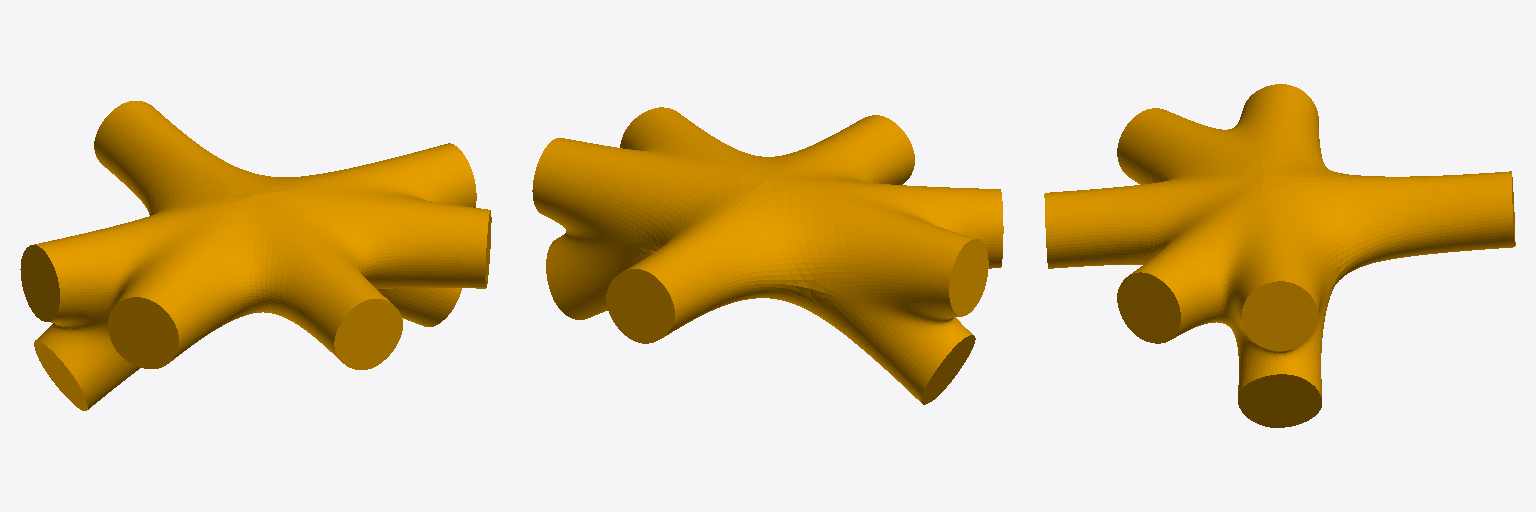
robot.urdf — object:
<robot name="object">
  <link name="object">
    <visual>
      <origin xyz="0 0 0"/>
      <geometry>
        <mesh filename="visual.obj" scale="1 1 1"/>
      </geometry>
    </visual>
    <collision>
      <origin xyz="0 0 0"/>
      <geometry>
        <mesh filename="visual.obj" scale="1 1 1"/>
      </geometry>
    </collision>
    <inertial>
      <mass value="0.05"/>
      <inertia ixx="0.00013775437887221444" iyy="0.0002614831377277884" izz="0.00035655405567381503" ixy="-2.222466327739712e-08" ixz="-2.7541226822121014e-07" iyz="-3.318021280631982e-07"/>
    </inertial>
  </link>
</robot>

--- What the picture shows (computed from the rendered views, not written in the file) ---
The picture shows the robot from 3 angles, left to right: view 1: azimuth 30°, elevation 25°; view 2: azimuth 150°, elevation 25°; view 3: azimuth 270°, elevation 25°; orthographic projection.
Model object with 1 links and 0 joints (none), rooted at object, posed all joints at 0.
Visible links, largest first — view 1: object; view 2: object; view 3: object.
Boxes of the visible links, bbox=[...] form: object: bbox=[20, 101, 491, 410]; object: bbox=[532, 107, 1003, 404]; object: bbox=[1044, 84, 1515, 427].
Size in the robot's own frame: 0.2805 by 0.282 by 0.1138 metres.
1 mesh visuals loaded from 1 distinct referenced files (1 OBJ).
